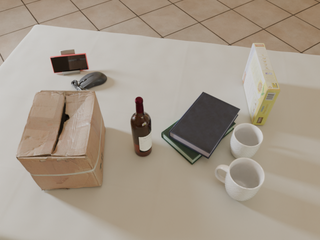book: (169, 92, 240, 159)
bottle: (131, 97, 152, 157)
box: (16, 90, 105, 191), (242, 43, 280, 125)
cup: (215, 157, 265, 201), (230, 123, 263, 159)
mouse: (71, 72, 107, 91)
phone: (50, 53, 89, 73)
